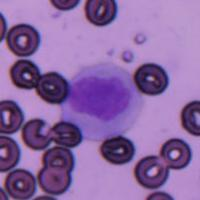M: (64, 62, 142, 138)
